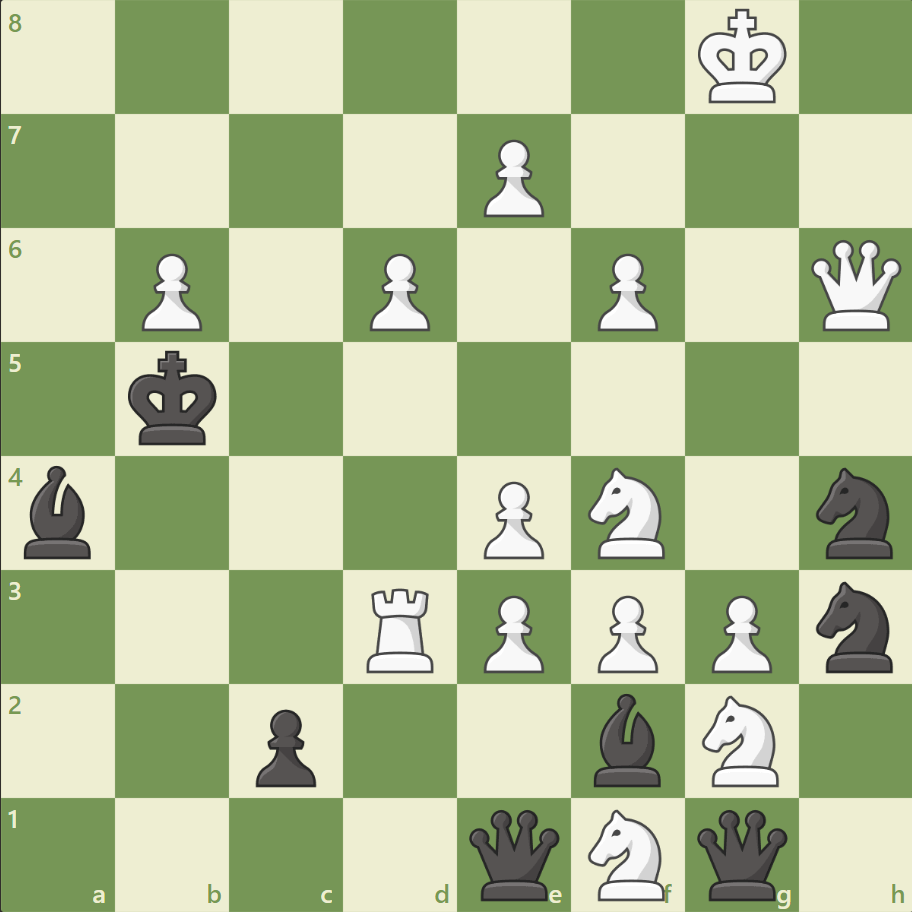K: (692, 4, 792, 112)
N: (579, 461, 676, 564), (692, 688, 789, 791), (579, 802, 676, 904)
P: (474, 132, 549, 223), (133, 246, 208, 337), (474, 473, 549, 564), (474, 586, 549, 677), (701, 586, 776, 677), (361, 246, 435, 337), (588, 246, 662, 337), (588, 586, 662, 677)
Q: (805, 236, 904, 335)
R: (360, 579, 442, 676)
b: (17, 460, 101, 563), (585, 687, 669, 790)
k: (124, 344, 224, 452)
n: (806, 461, 903, 564), (806, 575, 903, 677)
p: (247, 700, 322, 791)
q: (464, 804, 563, 903), (691, 804, 790, 903)
